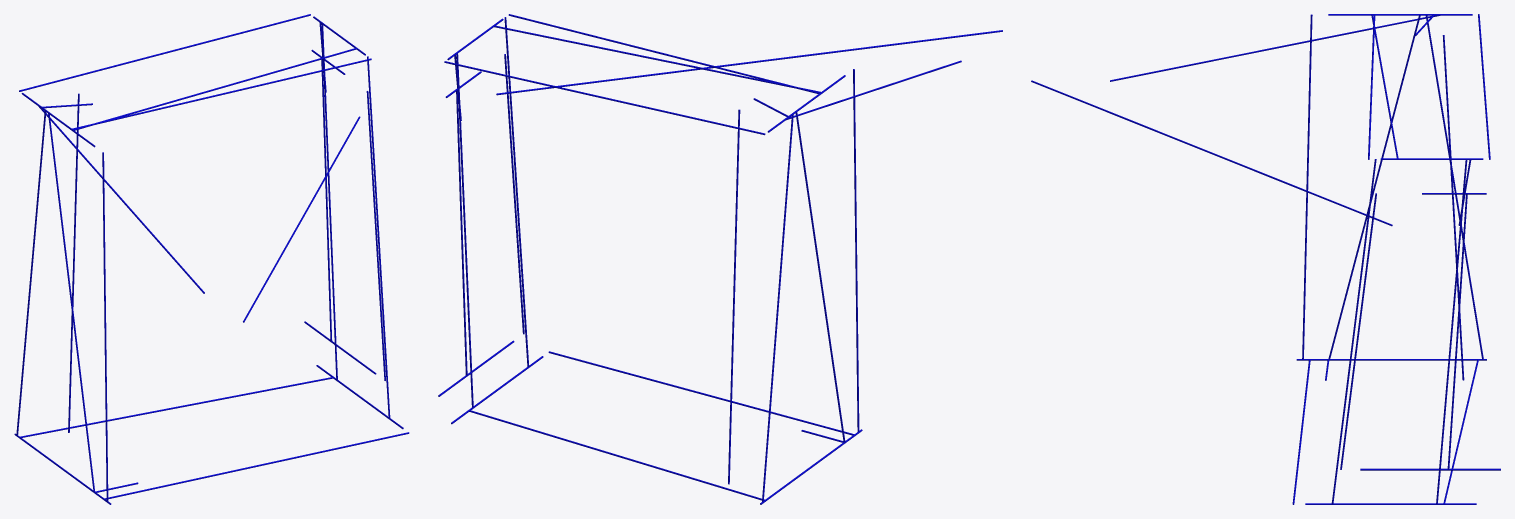
File: corrected_3d_strokes.glb
3 renders of one model, left to right at view 1: azimuth 30°, elevation 25°; view 2: azimuth 150°, elevation 25°; view 3: azimuth 270°, elevation 25°, orthographic. The views are drawn at different scales.
Visible parts, largest first — view 1: world; view 2: world; view 3: world.
Boxes of the visible parts, x1,y1,x2,y2 form: world: [14, 14, 409, 504]; world: [438, 14, 1002, 504]; world: [1031, 14, 1500, 504].
Size of the model in its own units: 7.65 by 8.52 by 10.47.
